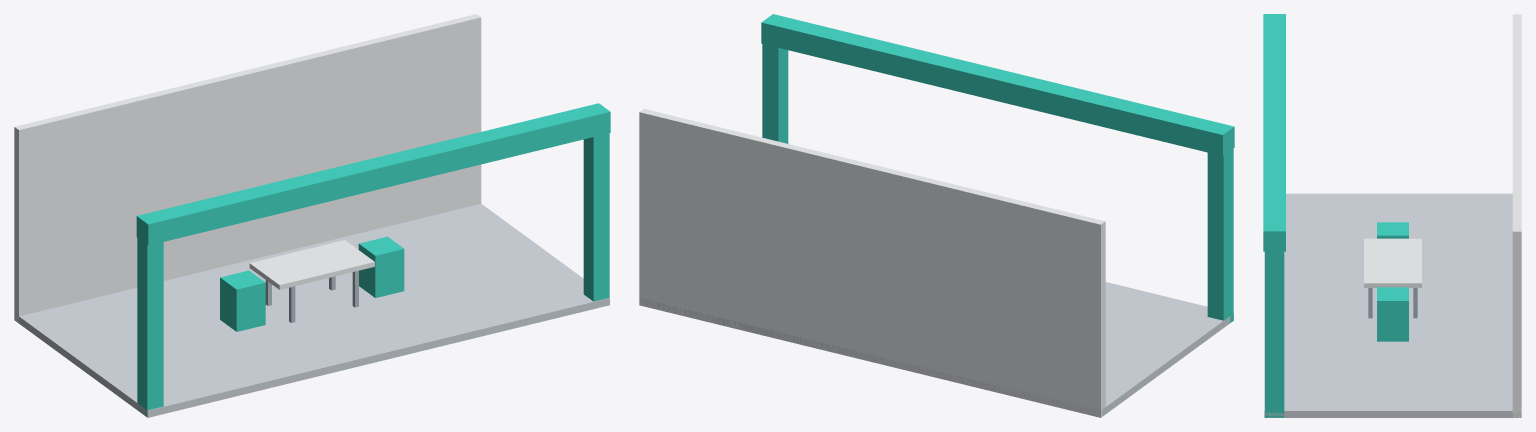
3 renders of one model, left to right at view 1: azimuth 30°, elevation 25°; view 2: azimuth 150°, elevation 25°; view 3: azimuth 270°, elevation 25°, orthographic. The views are drawn at different scales.
Visible parts, largest first — view 1: Exhibition Booth Concept; view 2: Exhibition Booth Concept; view 3: Exhibition Booth Concept.
Part boxes in pixels (<box>): Exhibition Booth Concept: <box>14,14,610,417</box>; Exhibition Booth Concept: <box>639,14,1234,417</box>; Exhibition Booth Concept: <box>1263,14,1521,417</box>.
Bounding box in the file's own units: 8 × 3.2 × 4.02.
